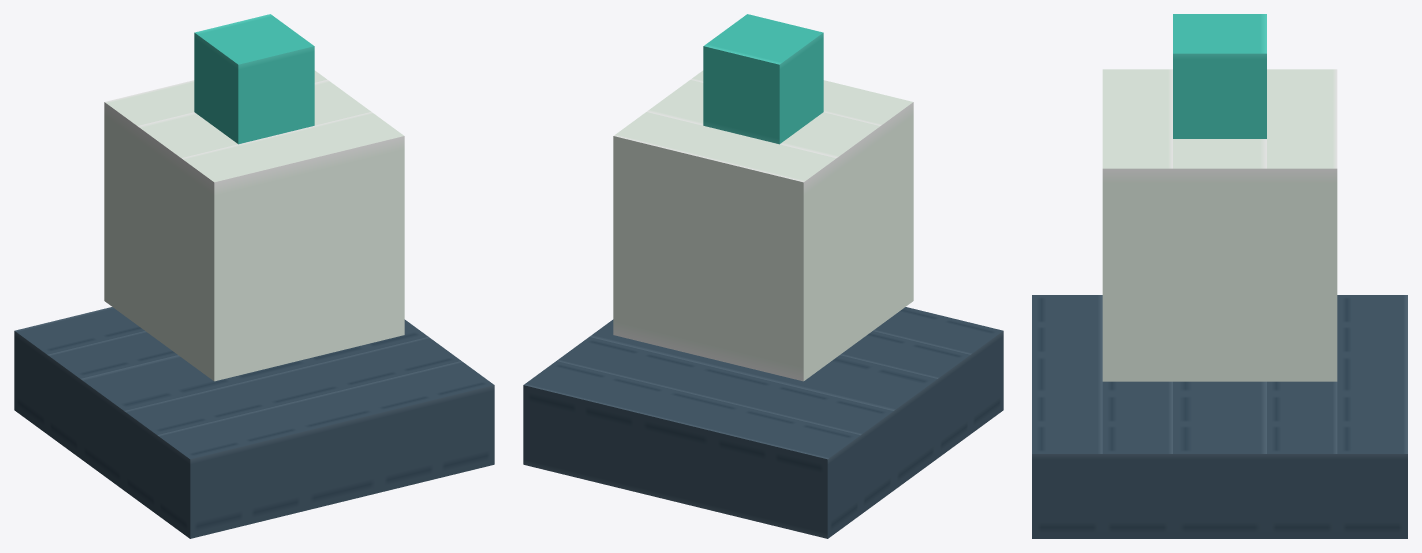
The model's file is sc_pickup_holographic_memory.obj.
The picture shows the model from 3 angles, left to right: view 1: azimuth 30°, elevation 25°; view 2: azimuth 150°, elevation 25°; view 3: azimuth 270°, elevation 25°; orthographic projection. The views are drawn at different scales.
Bounding box in the file's own units: 4.8 × 6 × 4.8.
1 material, 1 textured.
